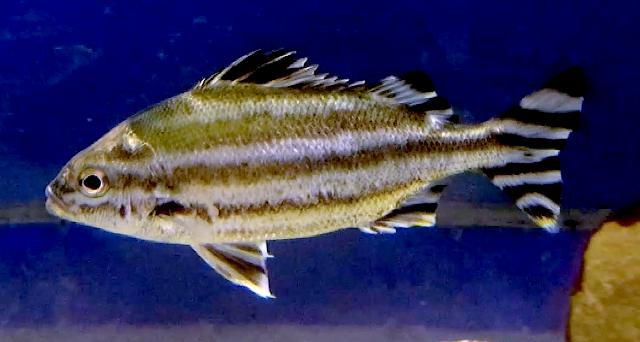Mulut: (31, 176, 79, 224)
Sirip Anal: (350, 175, 458, 239)
Sirip Dada: (159, 194, 275, 276)
Sirip Ekor: (494, 56, 602, 236)
Sirip Perut: (190, 235, 282, 309)
Sirip Punggung: (198, 35, 458, 127)
